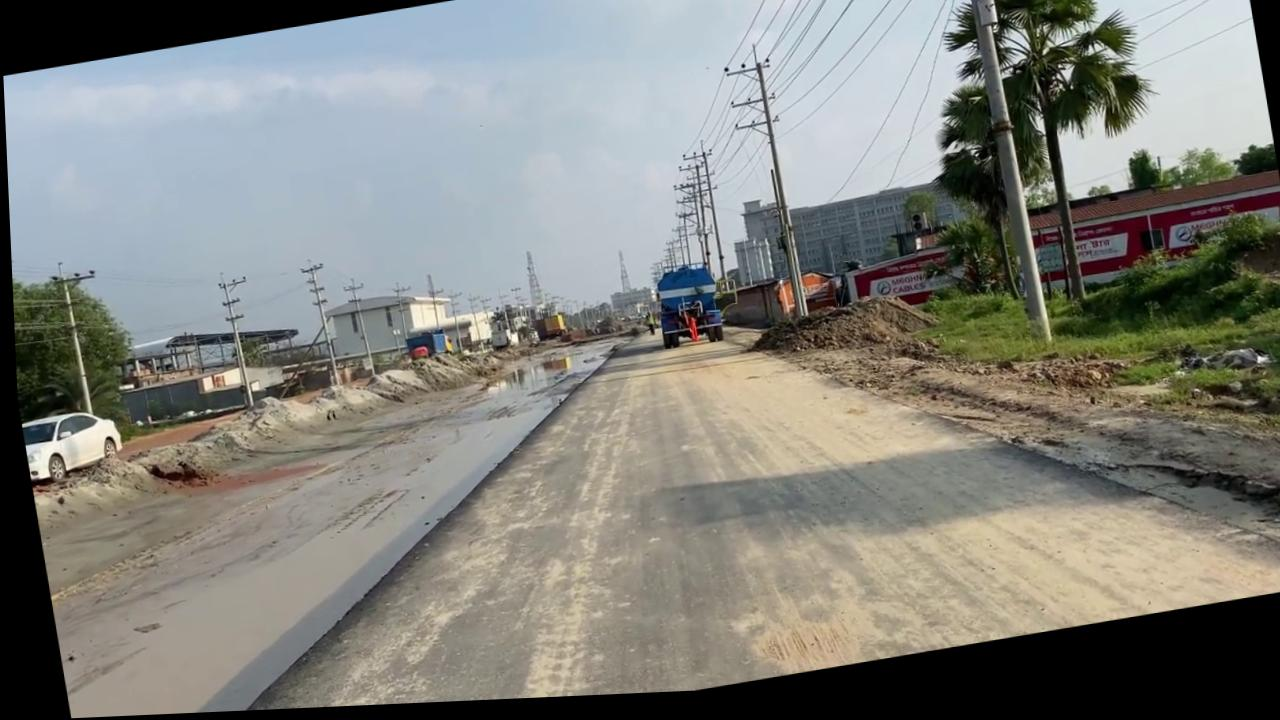Car: (16, 404, 123, 486)
Curb: (16, 329, 683, 720)
Obstacle: (527, 318, 564, 347)
Pole: (953, 0, 1050, 358), (749, 51, 806, 327)
Stuck-water: (682, 321, 697, 350)
Traffic-cone: (907, 221, 921, 240)
Traffic-sign: (927, 0, 1187, 330), (911, 78, 1068, 320)
Tree: (824, 212, 979, 326), (646, 267, 723, 356), (481, 304, 536, 356)
